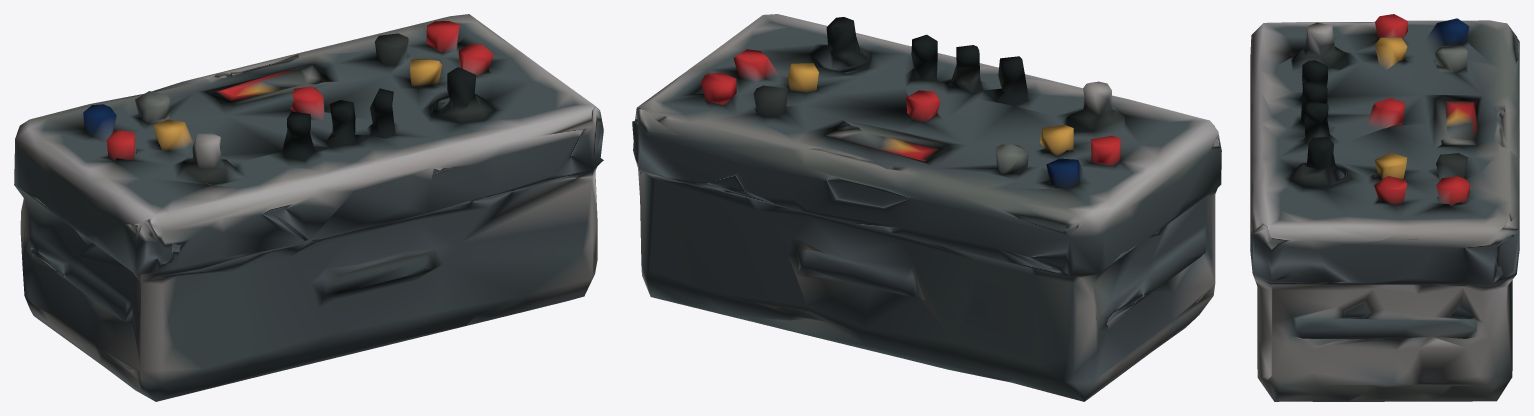
Rendered from gen3d-control-panel-lod0.glb.
The picture shows the model from 3 angles, left to right: view 1: azimuth 30°, elevation 25°; view 2: azimuth 150°, elevation 25°; view 3: azimuth 270°, elevation 25°; orthographic projection. The views are drawn at different scales.
Parts seen in each view (by area): view 1: part_0; view 2: part_0; view 3: part_0.
Boxes of the visible parts, box(x1,y1,x2,y2) form: part_0: box(14, 14, 603, 401); part_0: box(632, 14, 1221, 401); part_0: box(1250, 14, 1519, 401).
Bounding box in the file's own units: 2.12 × 0.9996 × 1.13.
